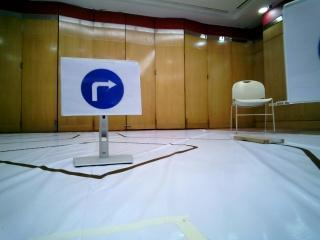right: (62, 57, 140, 116)
